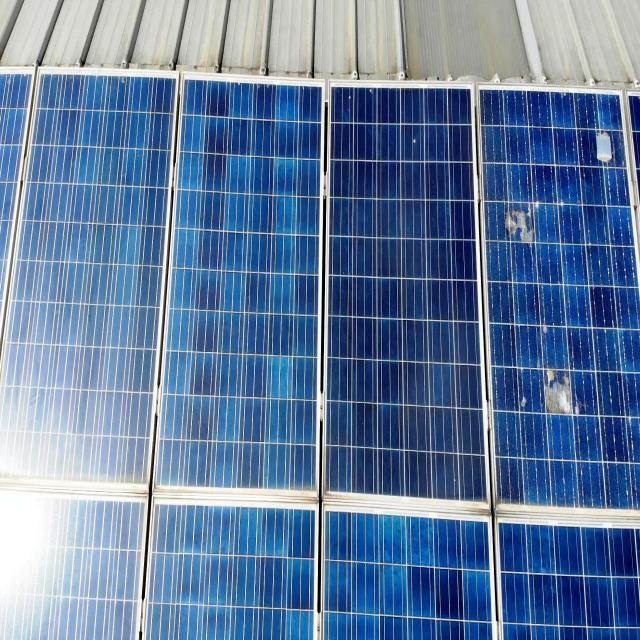faulty: (476, 84, 640, 518)
no faulty: (322, 75, 494, 518), (156, 74, 333, 500), (3, 73, 177, 494)
